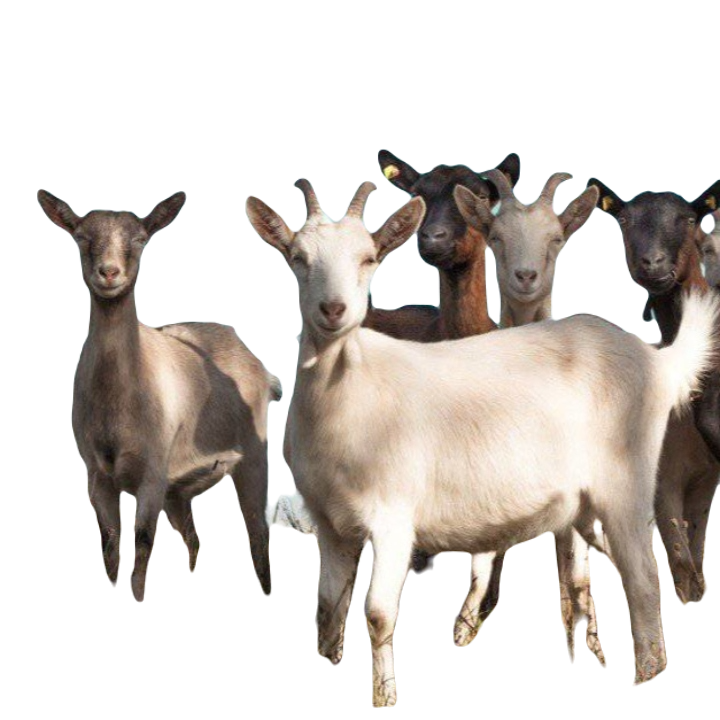Goat: (281, 180, 719, 704), (35, 190, 275, 596)
